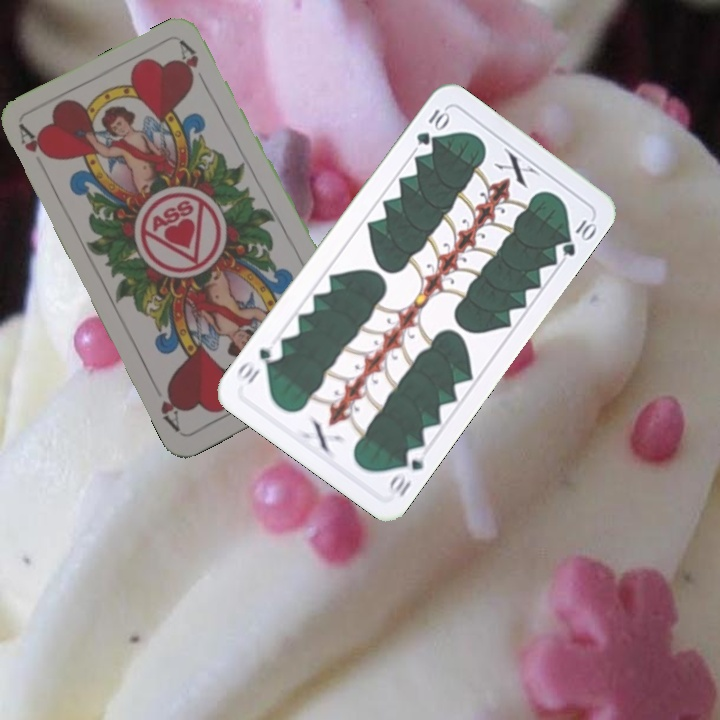G10: (383, 443, 430, 500), (412, 103, 452, 148)
HA: (14, 121, 55, 162)
